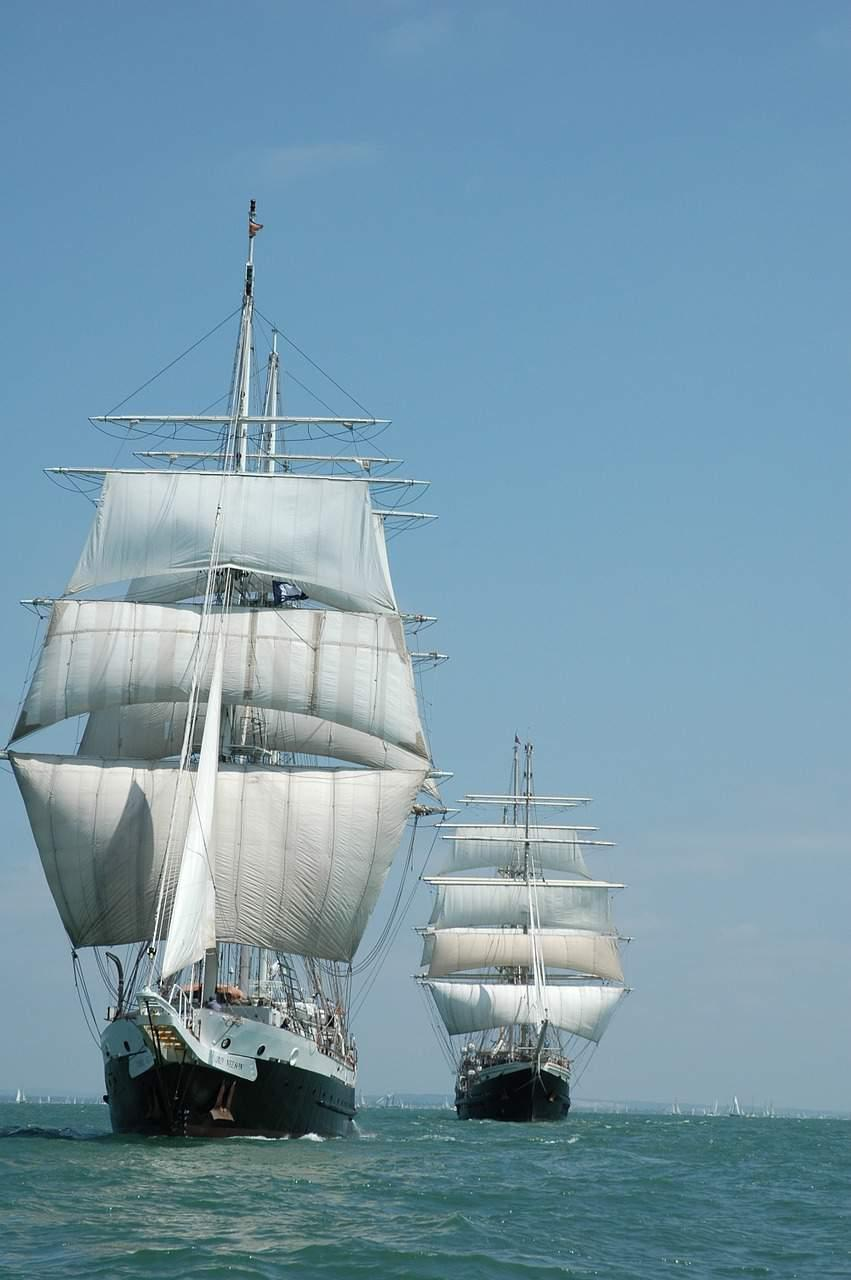Ship: (10, 195, 433, 1143), (424, 739, 627, 1127)
